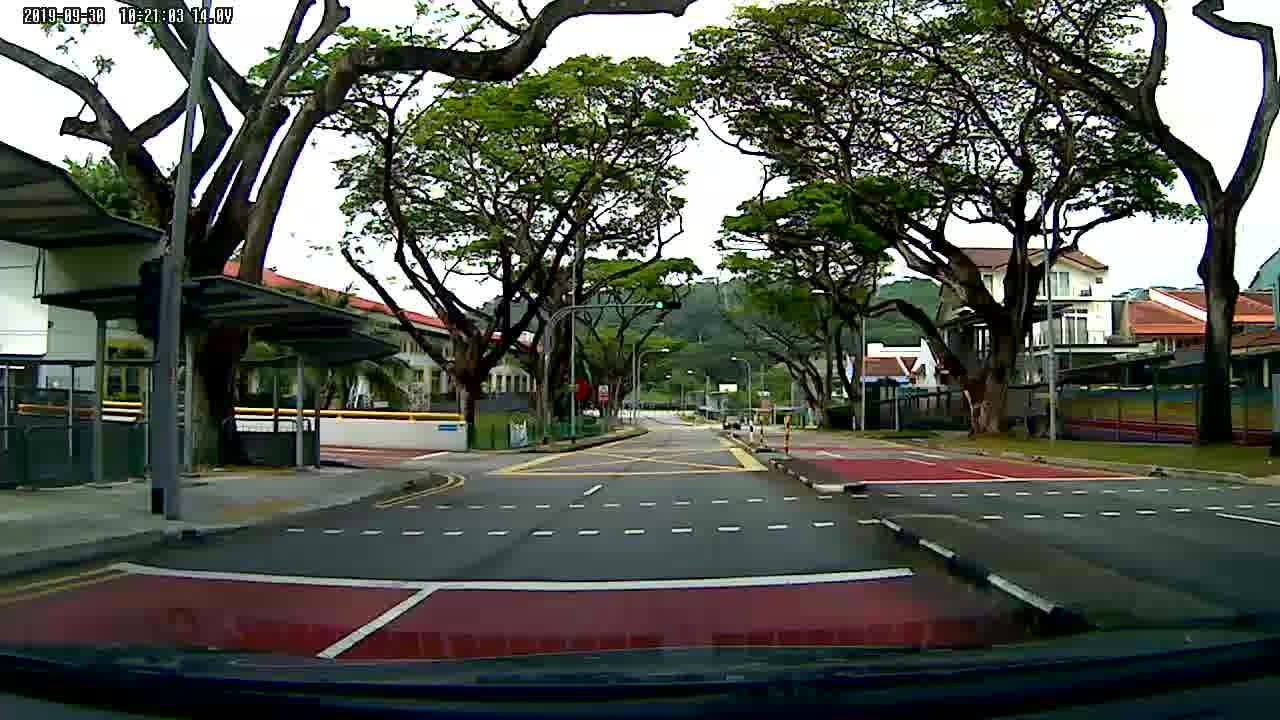car: (722, 413, 743, 433)
